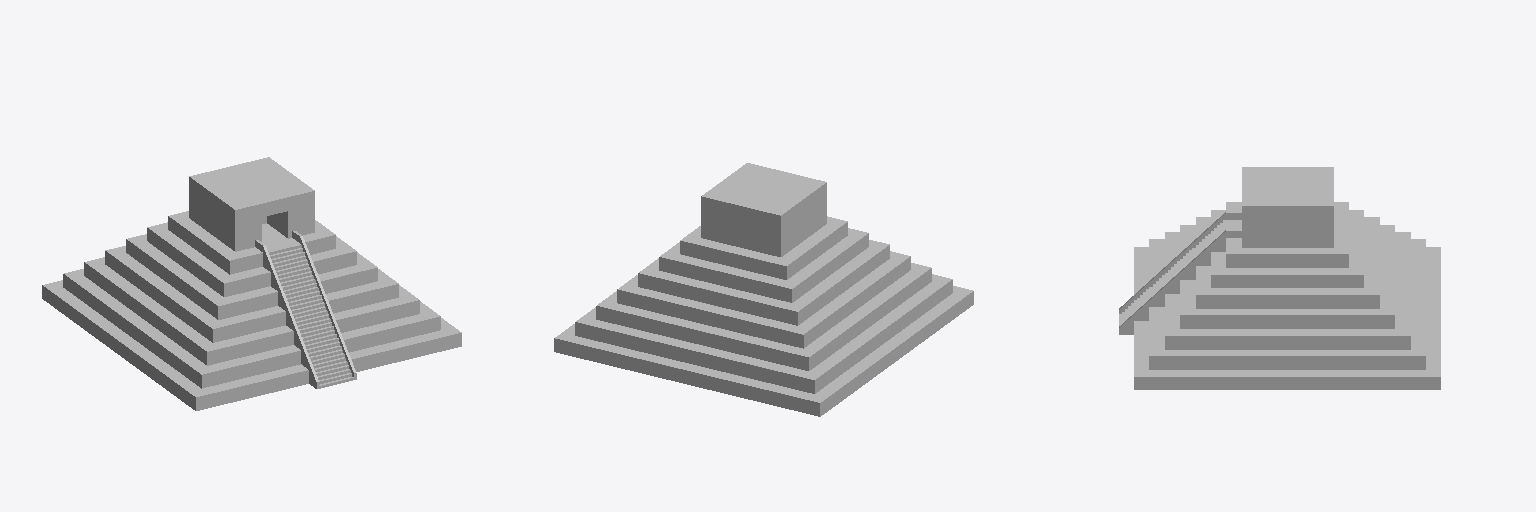
3 renders of one model, left to right at view 1: azimuth 30°, elevation 25°; view 2: azimuth 150°, elevation 25°; view 3: azimuth 270°, elevation 25°, orthographic.
Parts seen in each view (by area): view 1: First_Pyramid_Cube.003; view 2: First_Pyramid_Cube.003; view 3: First_Pyramid_Cube.003.
Part boxes in pixels (x1,y1,x2,y2): First_Pyramid_Cube.003: (42,157,461,410); First_Pyramid_Cube.003: (554,163,973,416); First_Pyramid_Cube.003: (1119,167,1440,389).
Bounding box in the file's own units: 5 × 2.5 × 5.25.